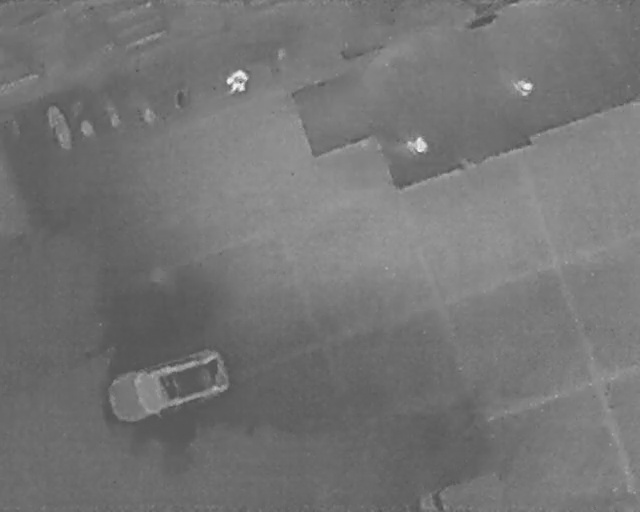Bicycle: (45, 101, 76, 152), (71, 98, 100, 141), (100, 93, 125, 130), (137, 92, 160, 124), (175, 88, 188, 109)
Car: (99, 337, 236, 432)
Person: (223, 66, 251, 97), (402, 131, 431, 159), (509, 76, 535, 100)
